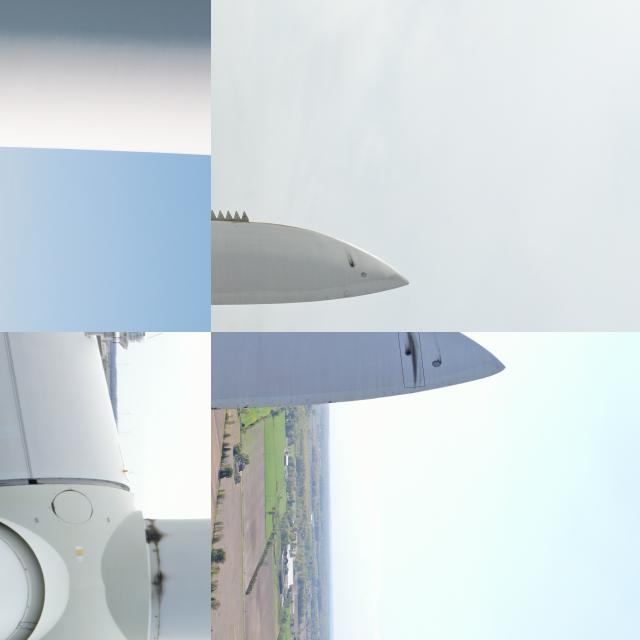damage: (142, 567, 182, 601), (130, 522, 180, 548), (398, 332, 420, 358), (402, 348, 410, 356), (346, 262, 356, 268)
